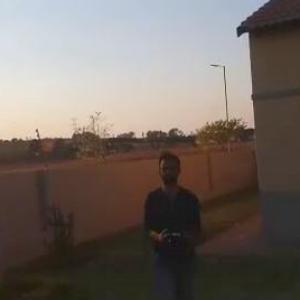follow: (136, 149, 210, 299)
